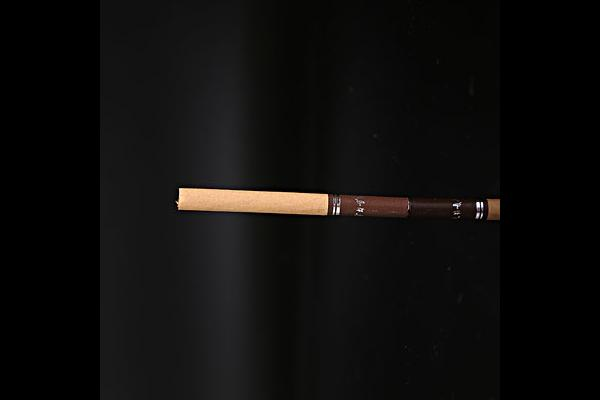Cigarette: (176, 182, 500, 222)
